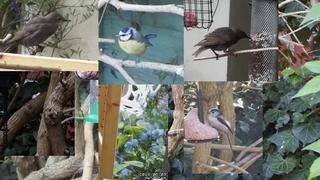blue tit: (115, 27, 157, 67)
long tailed tit: (207, 108, 236, 164)
starling: (4, 11, 72, 56), (192, 27, 252, 60)
